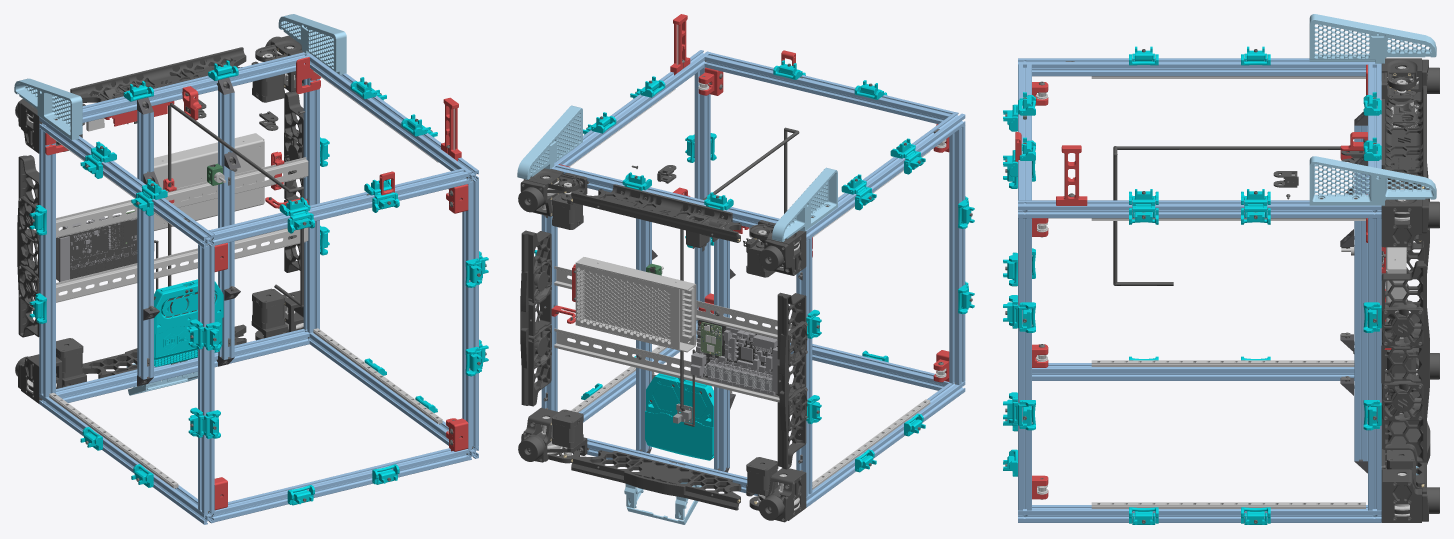
Rendered from frame.glb.
The picture shows the model from 3 angles, left to right: view 1: azimuth 30°, elevation 25°; view 2: azimuth 150°, elevation 25°; view 3: azimuth 270°, elevation 25°; orthographic projection. The views are drawn at different scales.
Bounding box in the file's own units: 554 × 657 × 637.
